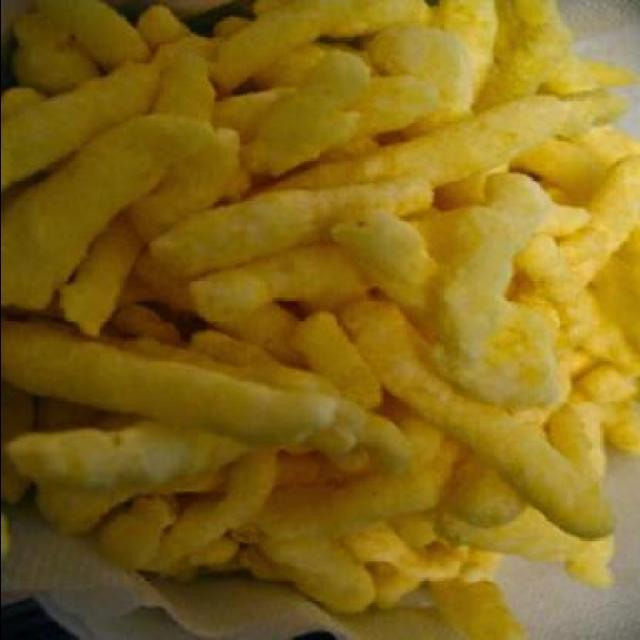Chips packaged: (1, 10, 632, 598)
